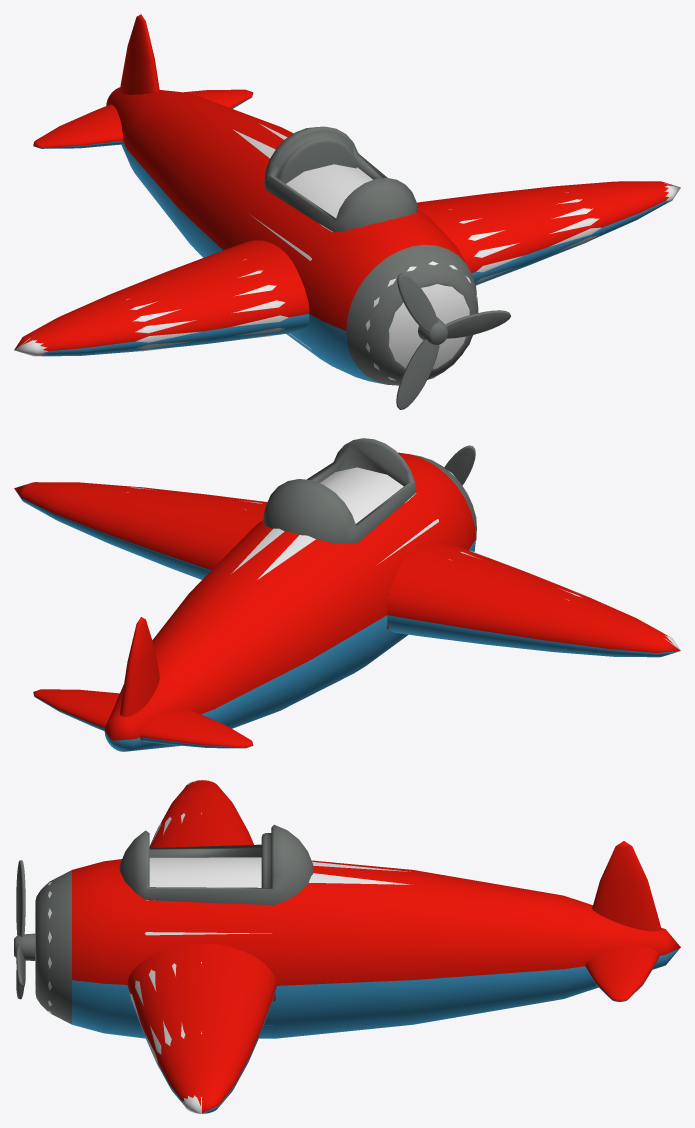
3 views of the same model, one above another, from view 1: azimuth 30°, elevation 25°; view 2: azimuth 150°, elevation 25°; view 3: azimuth 270°, elevation 25° (orthographic). The views are drawn at different scales.
Visible parts, largest first — view 1: Plane, Plcoll 2, Plcoll 1; view 2: Plane, Plcoll 2; view 3: Plane, Plcoll 2, Plcoll 1.
Part boxes in pixels (left/top/right/bottom): Plane: left=14, top=14, right=678, bottom=409; Plcoll 2: left=233, top=123, right=477, bottom=380; Plcoll 1: left=14, top=183, right=680, bottom=356; Plane: left=14, top=438, right=680, bottom=751; Plcoll 2: left=231, top=458, right=476, bottom=651; Plane: left=14, top=780, right=680, bottom=1113; Plcoll 2: left=35, top=857, right=412, bottom=1025; Plcoll 1: left=130, top=780, right=201, bottom=1113.
Size of the model in its own units: 845 by 237 by 716.
